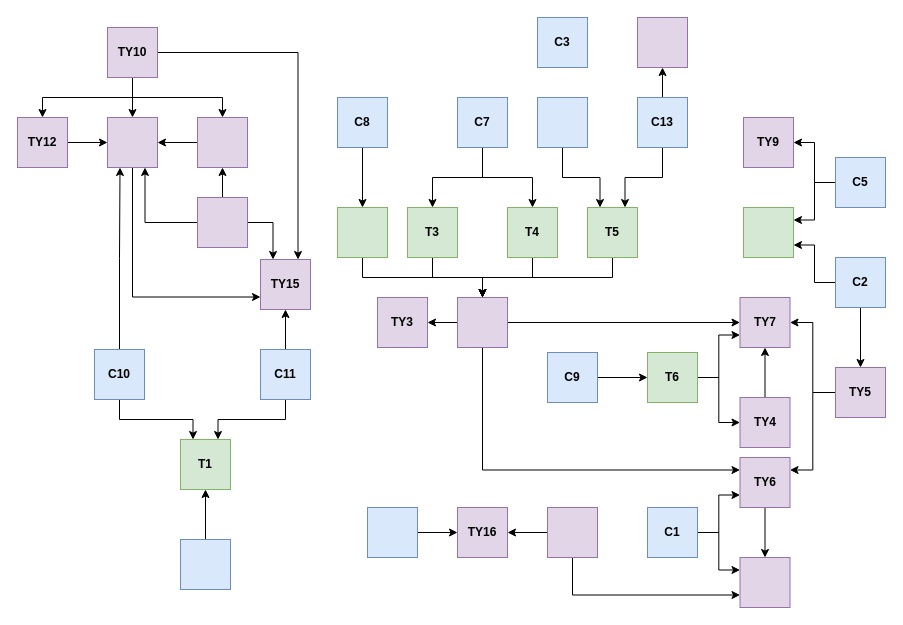
The diagram is 903 pixels wide and 625 high, and some of its shapes have lost their labels. Each missing label, with the box of its shape:
C12: (366, 506, 418, 558)
C4: (536, 96, 588, 148)
C6: (180, 538, 230, 590)
T2: (336, 206, 388, 258)
T7: (742, 206, 794, 258)
TY1: (546, 506, 598, 558)
TY11: (196, 196, 248, 248)
TY13: (196, 116, 248, 168)
TY14: (106, 116, 158, 168)
TY17: (636, 16, 688, 68)
TY2: (456, 296, 508, 348)
TY8: (739, 556, 790, 608)
